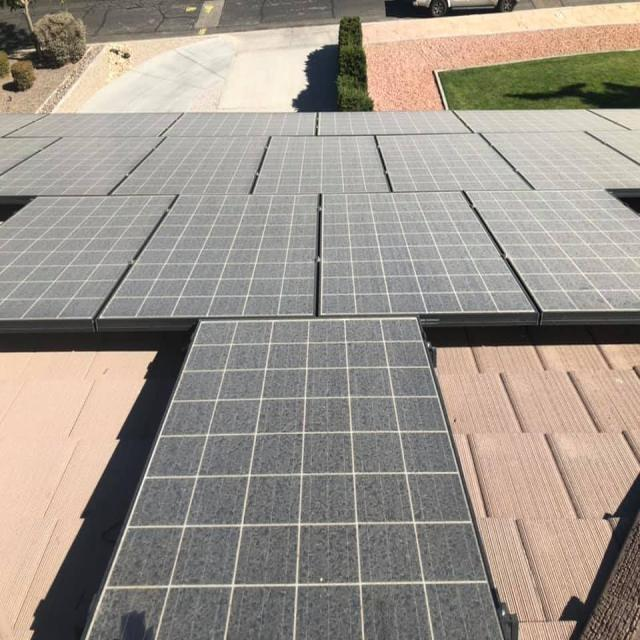dust-solar-panel: (0, 107, 640, 640)
